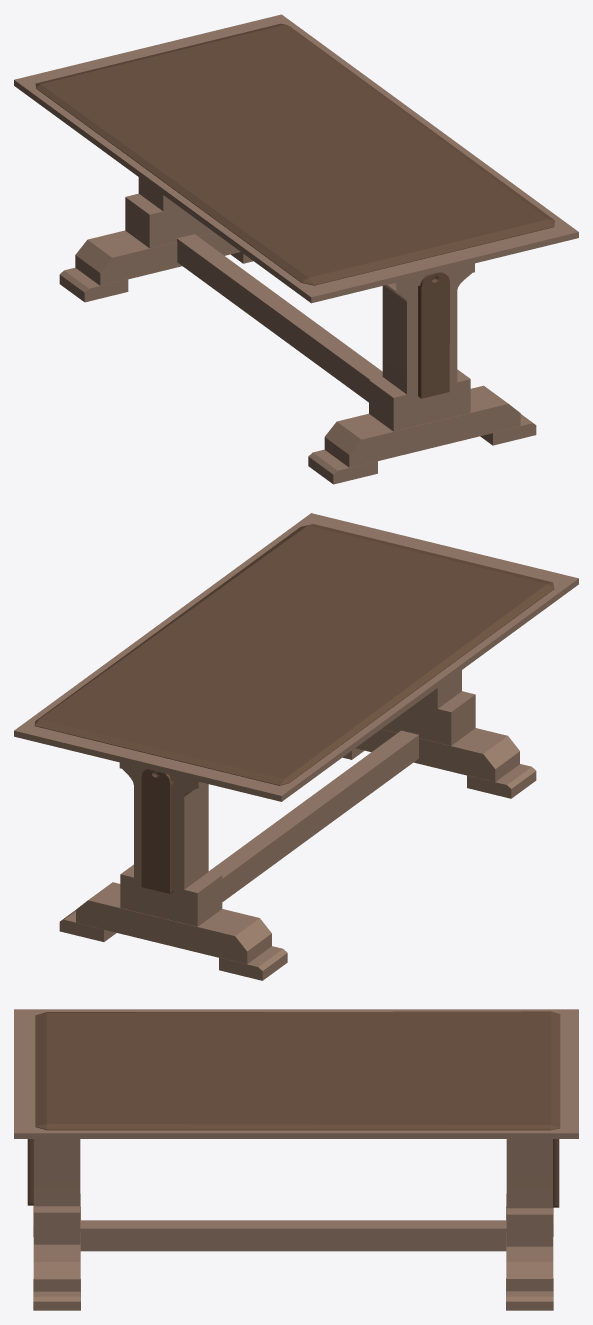
The model's file is Table.fbx.
3 views of the same model, one above another, from view 1: azimuth 30°, elevation 25°; view 2: azimuth 150°, elevation 25°; view 3: azimuth 270°, elevation 25° (orthographic). The views are drawn at different scales.
Visible parts, largest first — view 1: Table_big1; view 2: Table_big1; view 3: Table_big1.
Boxes of the visible parts, box(x1,y1,x2,y2) form: Table_big1: box(14, 14, 578, 484); Table_big1: box(14, 513, 578, 980); Table_big1: box(14, 1009, 578, 1310).
Bounding box in the file's own units: 129 × 94.54 × 247.
